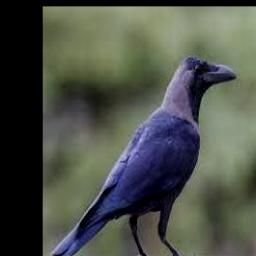Crow: (50, 55, 235, 256)
